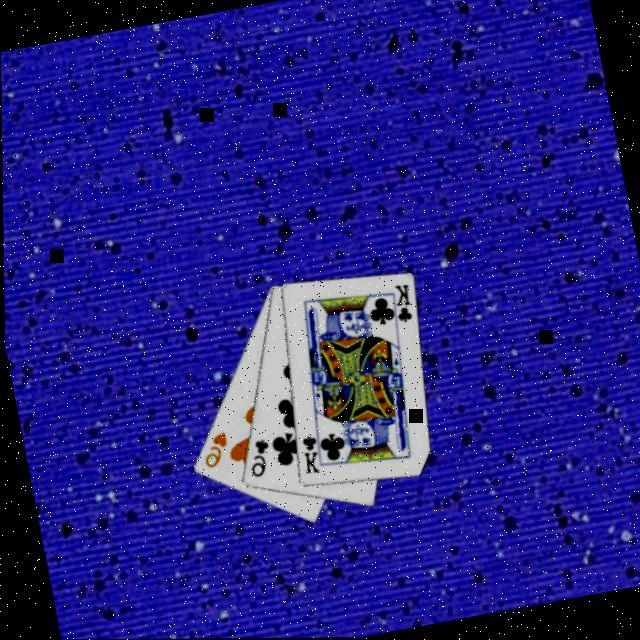9C: (239, 437, 275, 482)
9H: (194, 430, 232, 474)
KC: (292, 430, 328, 480), (382, 282, 416, 332)
